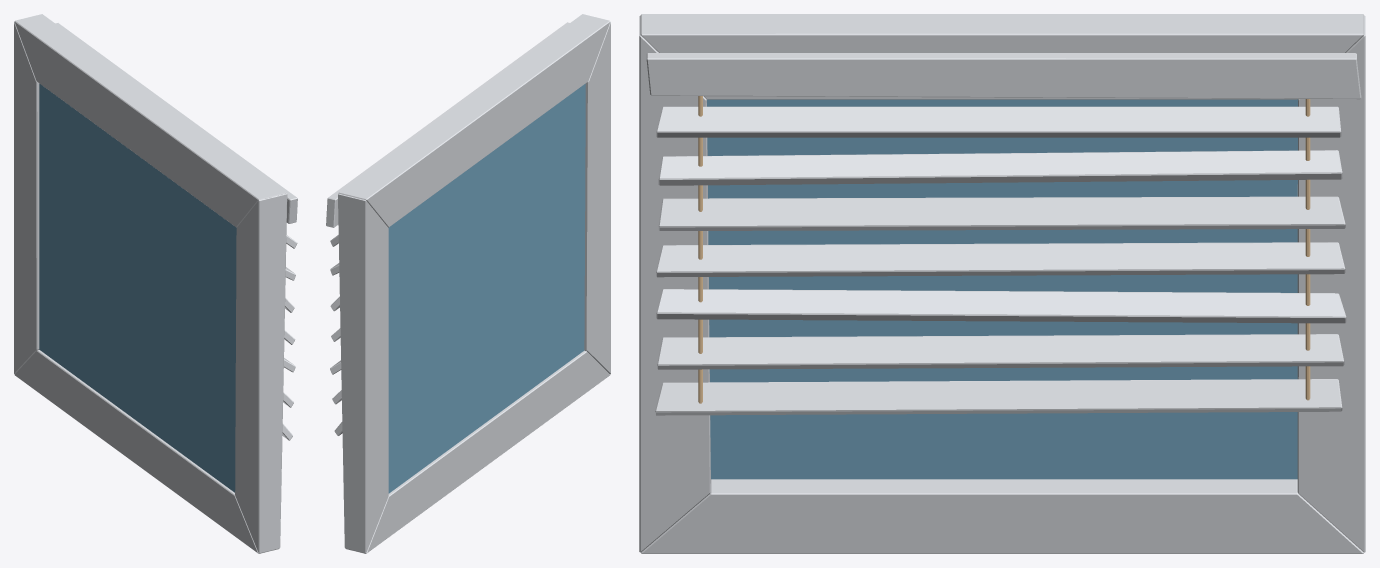
File: Window.fbx
3 renders of one model, left to right at view 1: azimuth 30°, elevation 25°; view 2: azimuth 150°, elevation 25°; view 3: azimuth 270°, elevation 25°, orthographic. The views are drawn at different scales.
Parts seen in each view (by area): view 1: Window; view 2: Window; view 3: Window.
Part boxes in pixels (x1,y1,x2,y2): Window: [14, 14, 297, 553]; Window: [326, 14, 610, 553]; Window: [639, 14, 1365, 553].
Size of the model in its own units: 0.1212 by 0.9244 by 1.16.
